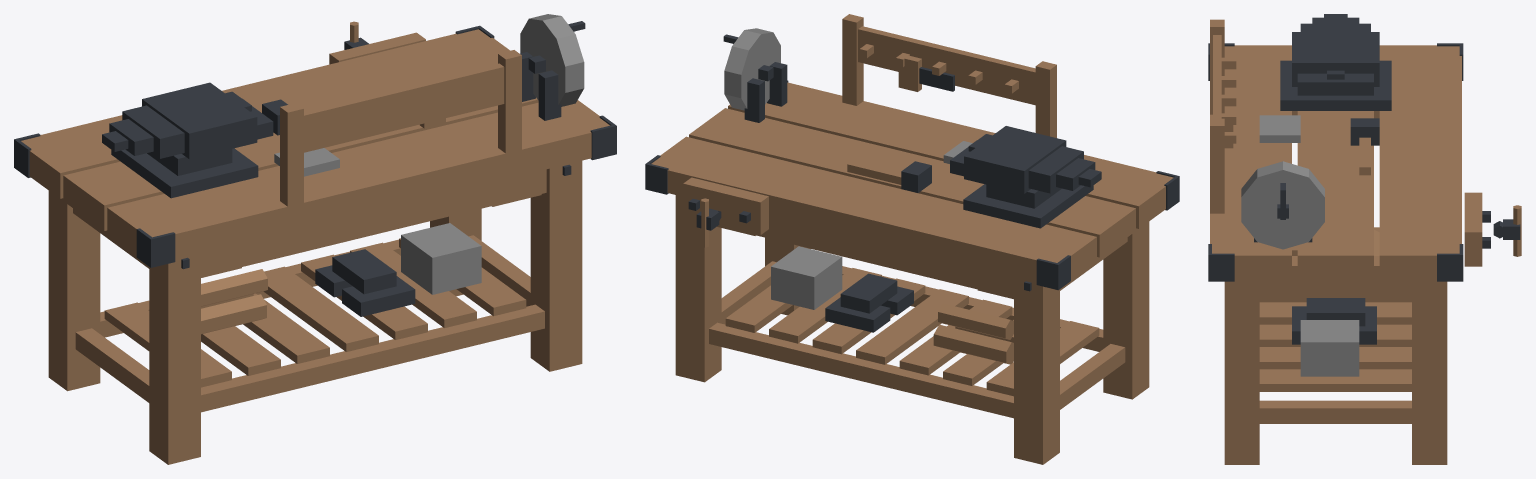
File: Workbench.fbx
3 views of the same model, side by side, from view 1: azimuth 30°, elevation 25°; view 2: azimuth 150°, elevation 25°; view 3: azimuth 270°, elevation 25° (orthographic). The views are drawn at different scales.
Parts seen in each view (by area): view 1: Workbench; view 2: Workbench; view 3: Workbench.
Part boxes in pixels (x1=…): Workbench: x1=14, y1=14, x2=616, y2=464; Workbench: x1=645, y1=14, x2=1179, y2=464; Workbench: x1=1208, y1=14, x2=1521, y2=464.
Size of the model in its own units: 174 by 116 by 107.
